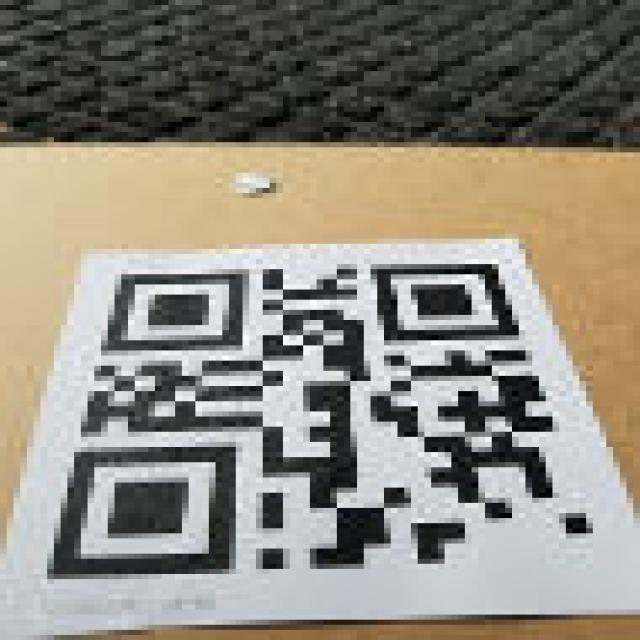QR_CODE: (33, 249, 620, 609)
